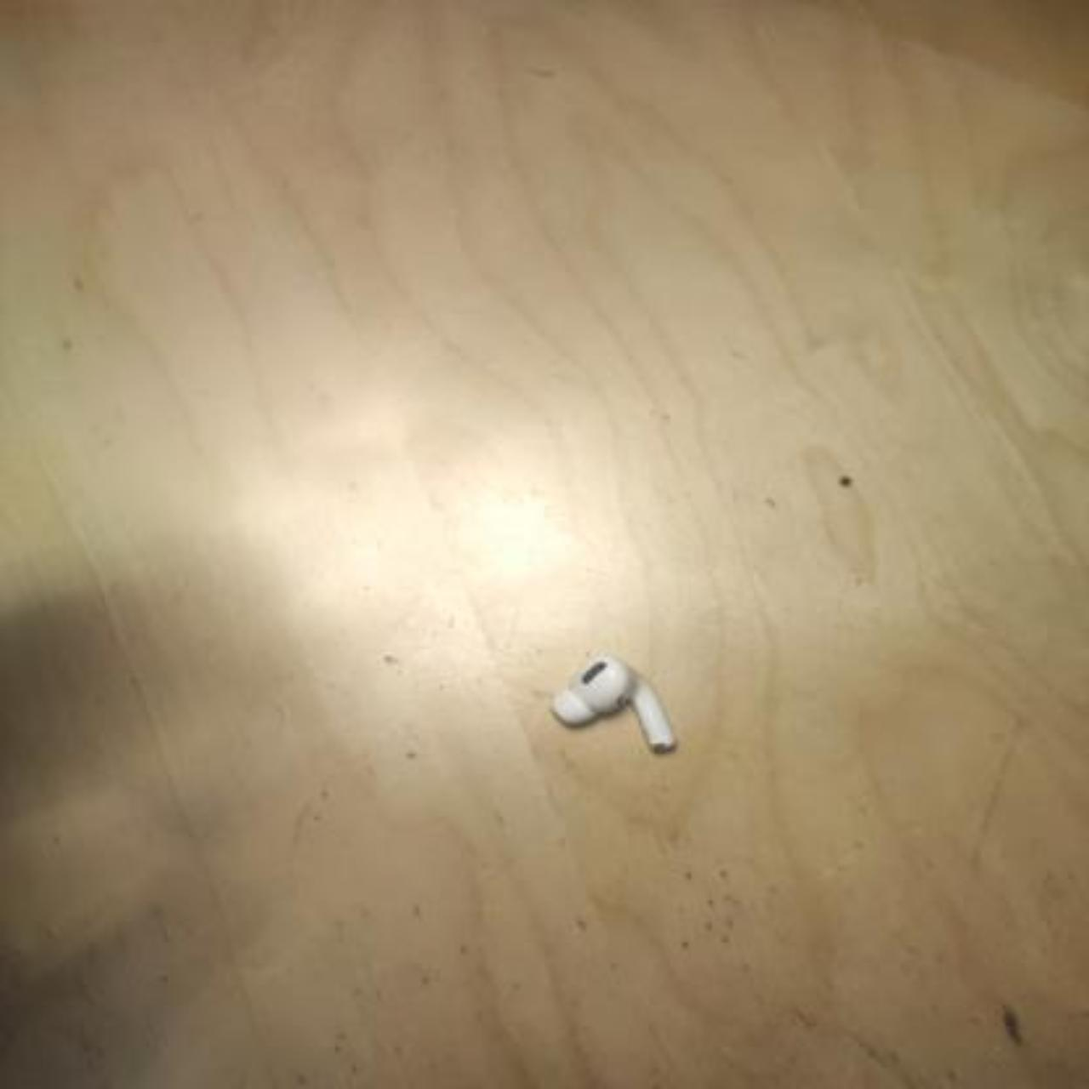Airpods_Units: (556, 660, 674, 749)
